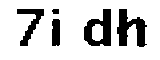7: (9, 5, 45, 50)
d: (82, 7, 114, 50)
h: (117, 5, 149, 50)
i: (49, 7, 70, 50)
